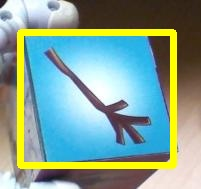Blue4: (20, 32, 173, 165)
